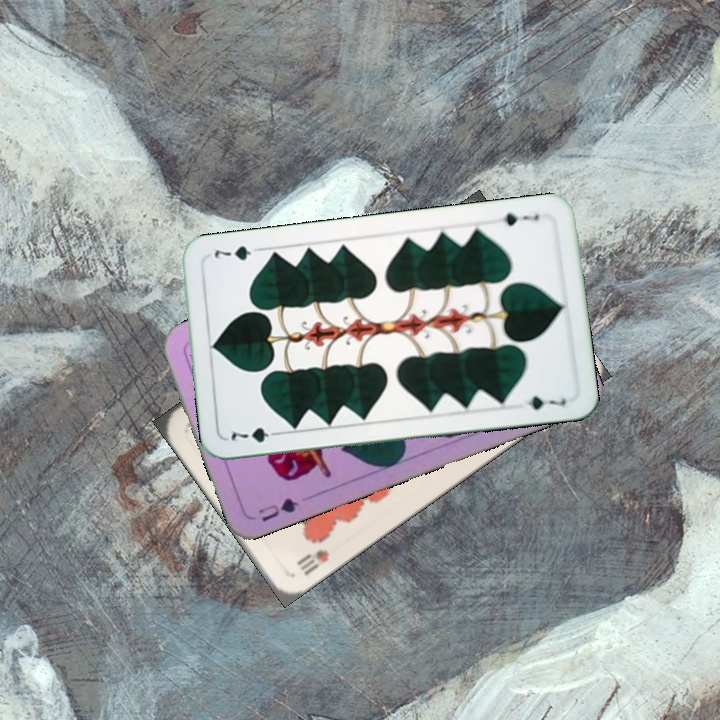G7: (226, 423, 284, 445), (491, 209, 542, 228)
GU: (254, 493, 303, 524)
H10: (292, 545, 332, 579)
